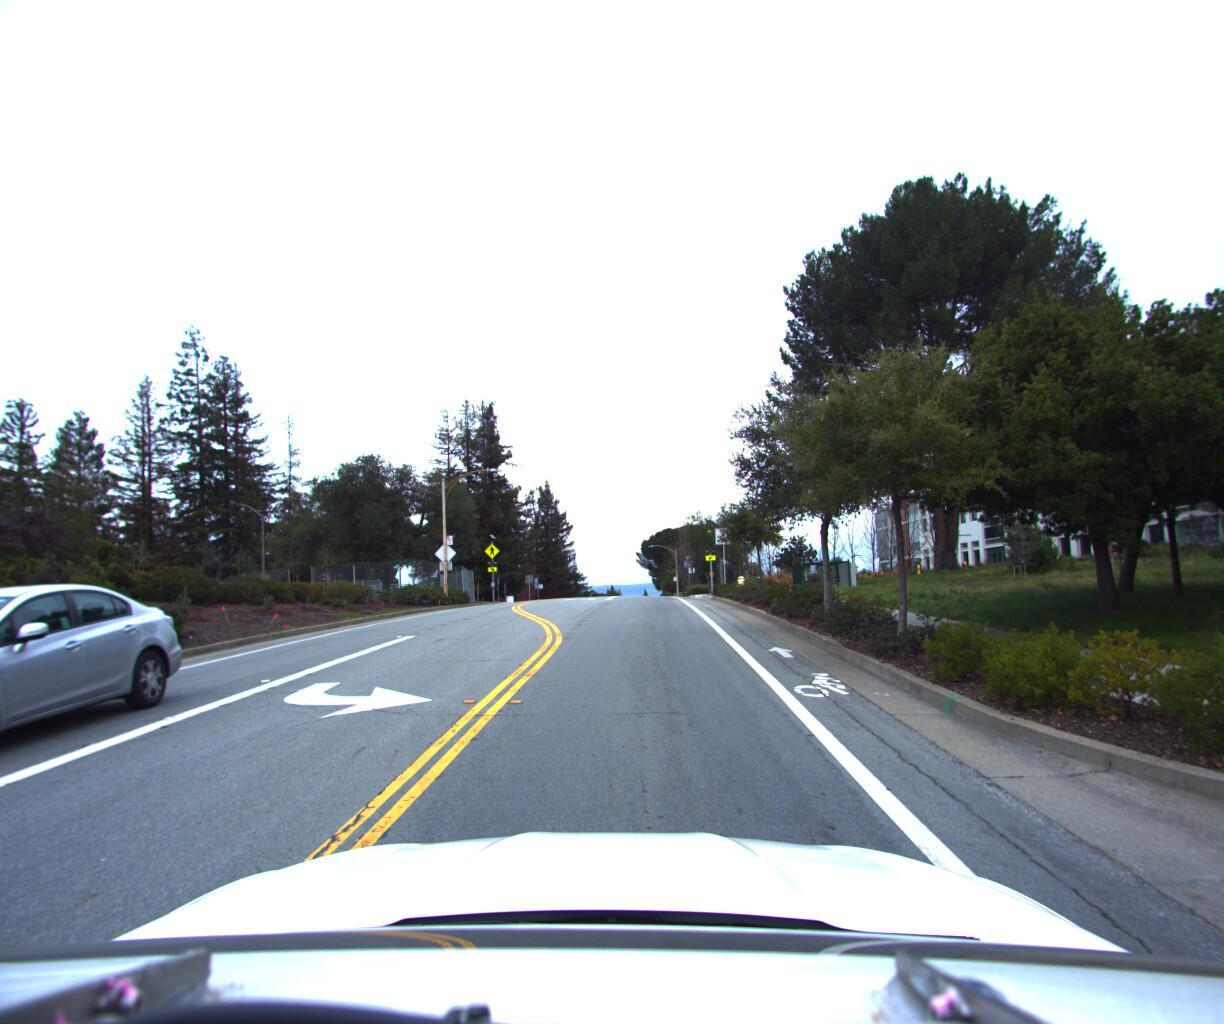car: (0, 592, 193, 834)
